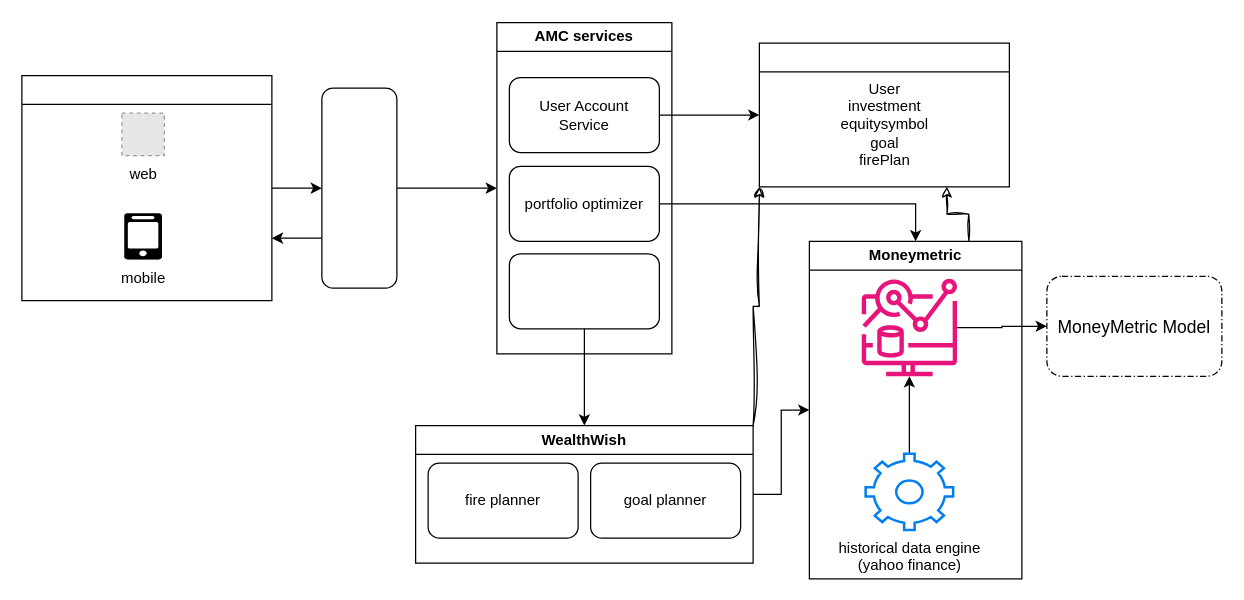
The diagram is 1244 pixels wide and 600 high, and some of its shapes have lost their labels. Grey dashed boxes stand in for pictures. The box of each missing label's shape, as (x1, y1, x2, y2) in pixels:
Data base: (758, 42, 1009, 187)
MoneyMetricInsight Service: (861, 278, 957, 376)
UI Engine: (321, 87, 397, 288)
User: (21, 74, 272, 301)
WealthWish Service: (508, 252, 659, 329)
